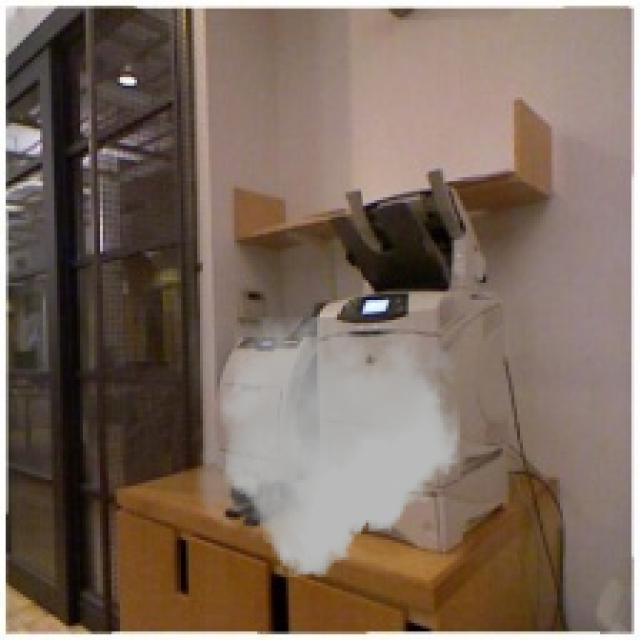smoke: (188, 317, 466, 577)
